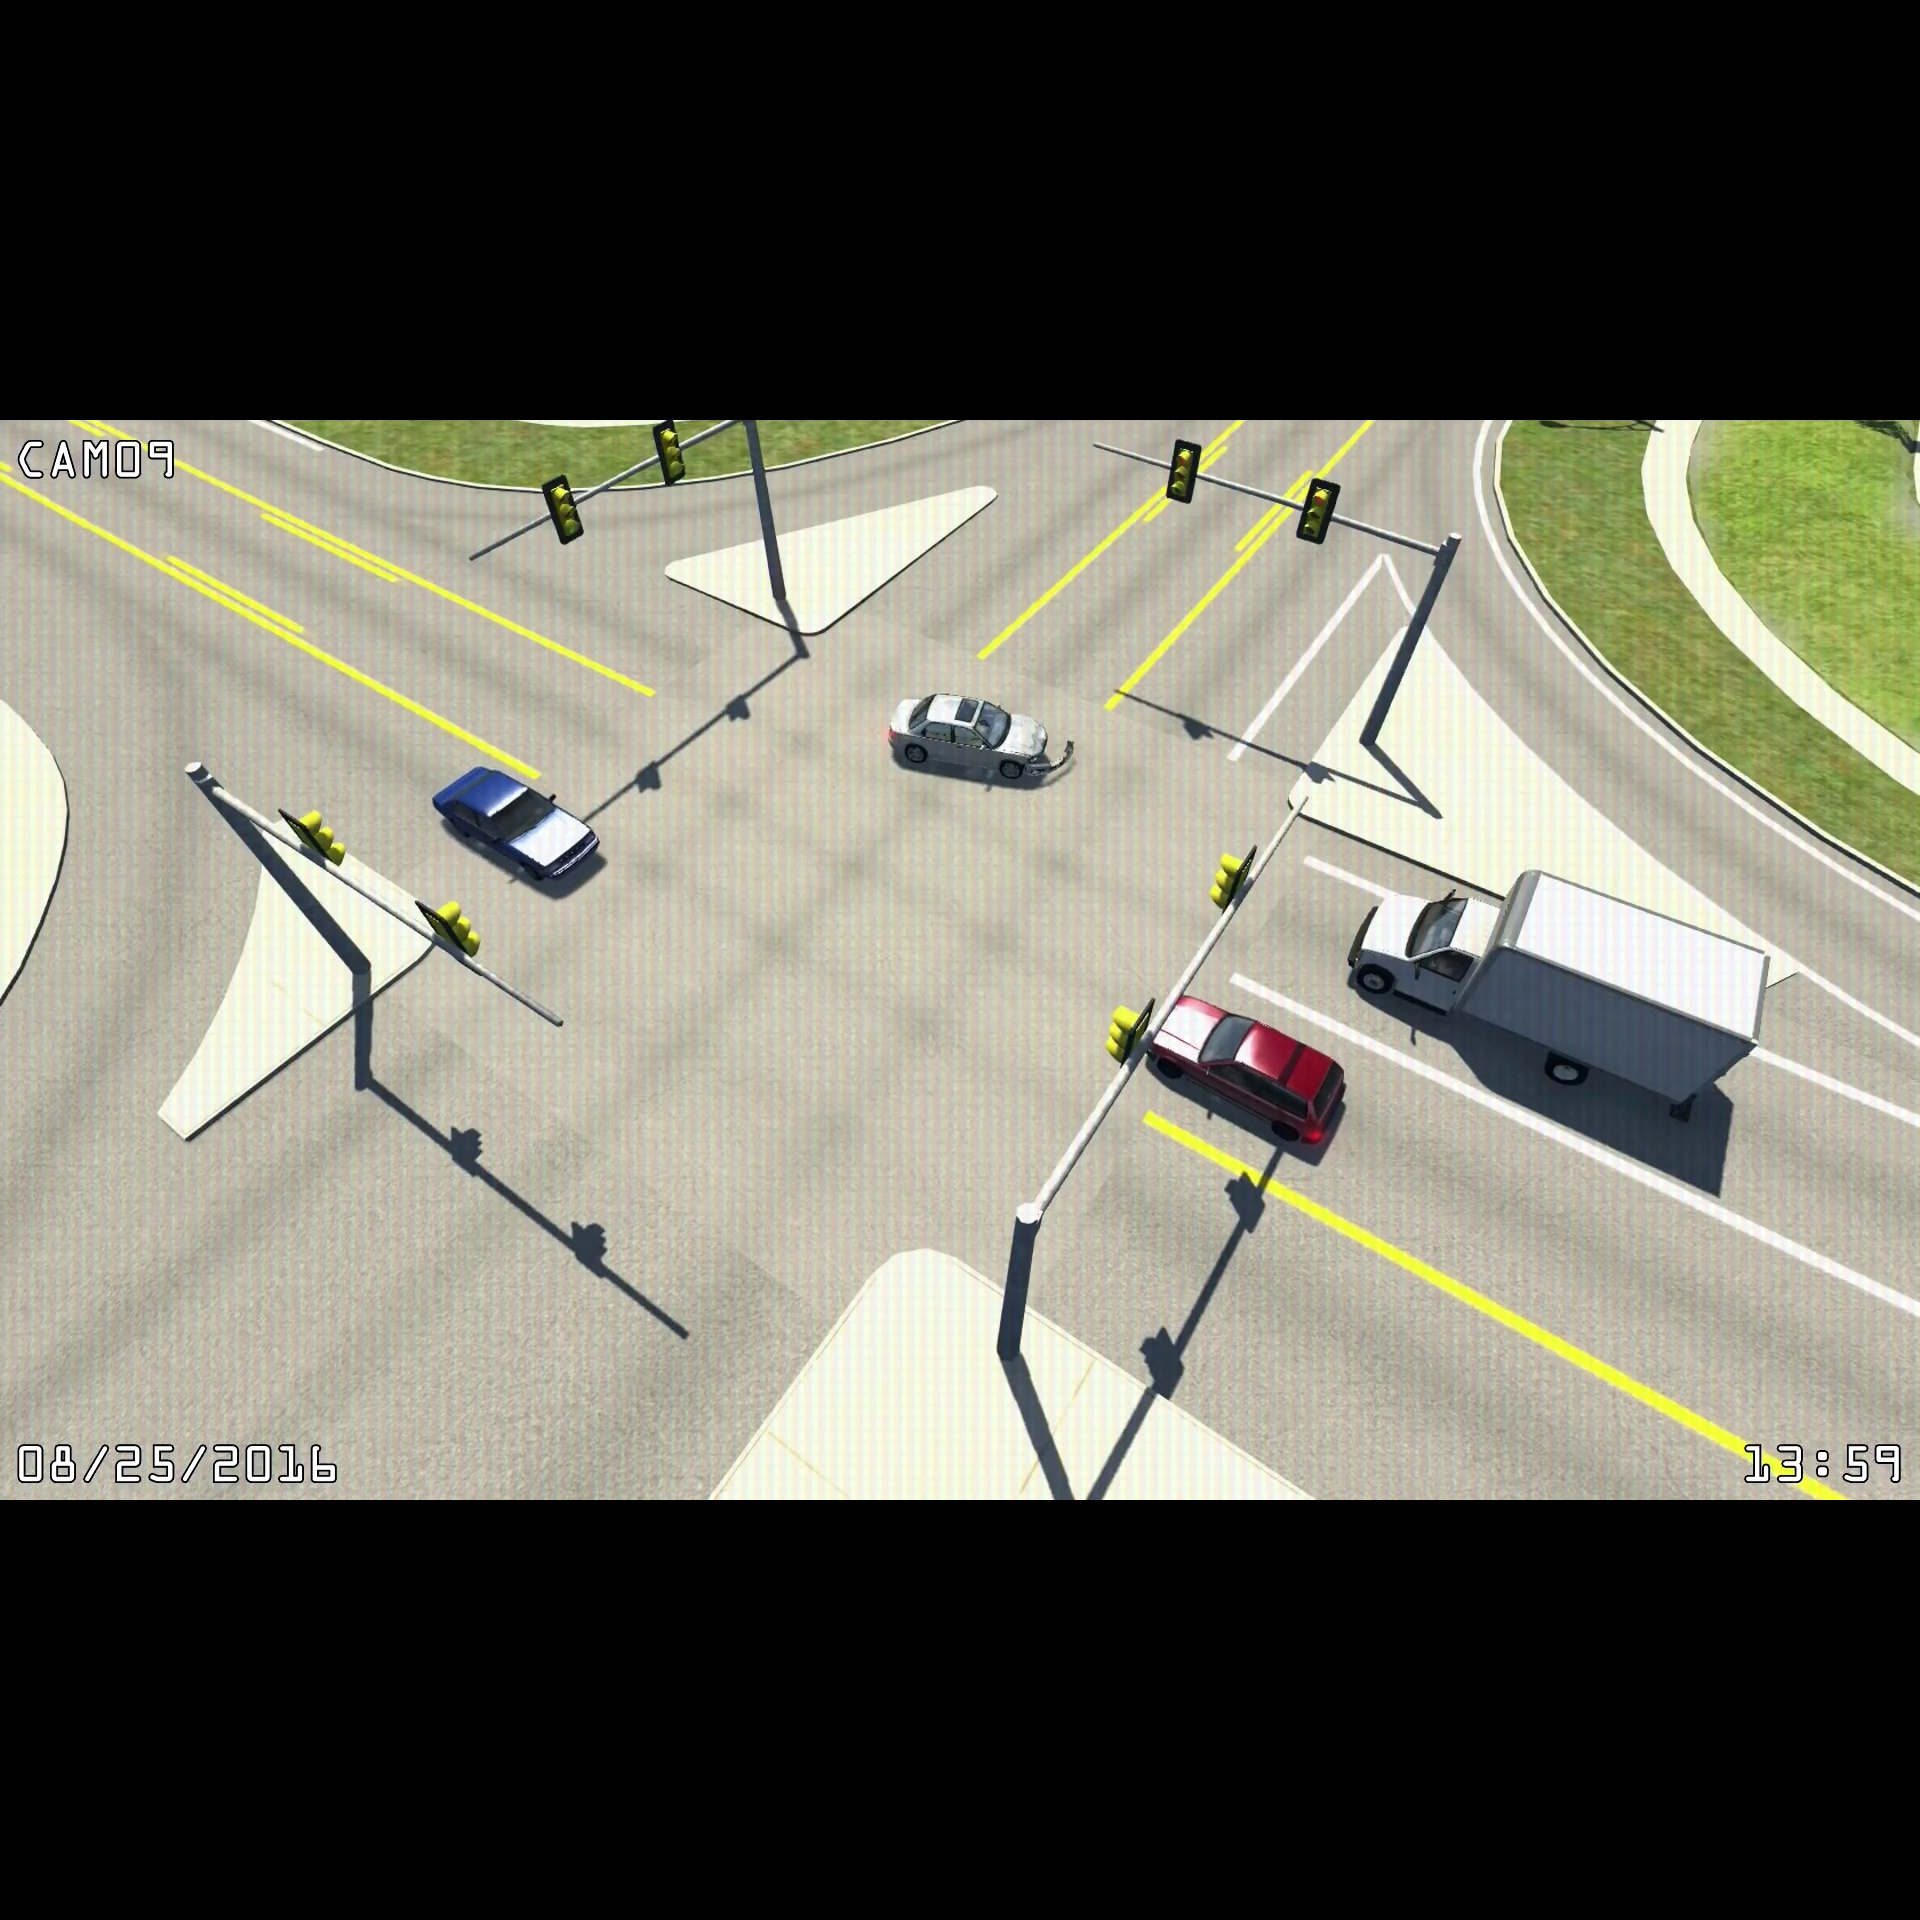vehicle: (1336, 858, 1778, 1127), (1136, 979, 1354, 1152), (425, 754, 607, 890), (883, 682, 1073, 795)
